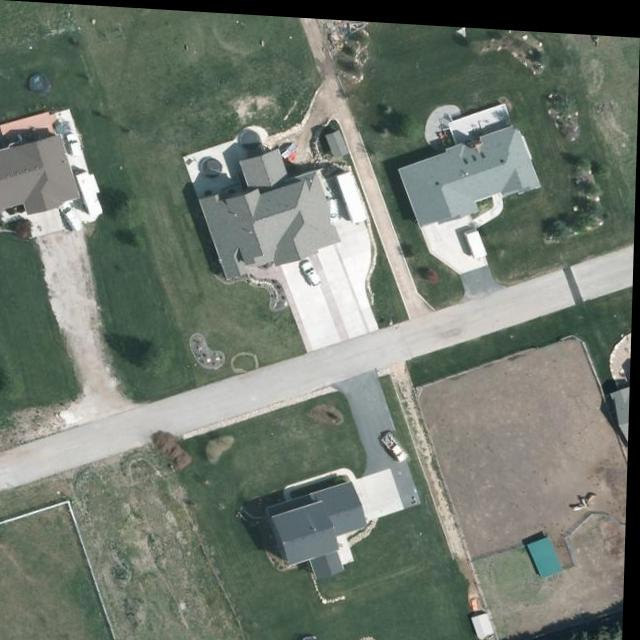vehicle: (382, 424, 412, 462), (61, 200, 87, 234), (322, 193, 347, 223), (301, 257, 323, 284), (61, 131, 84, 156)
